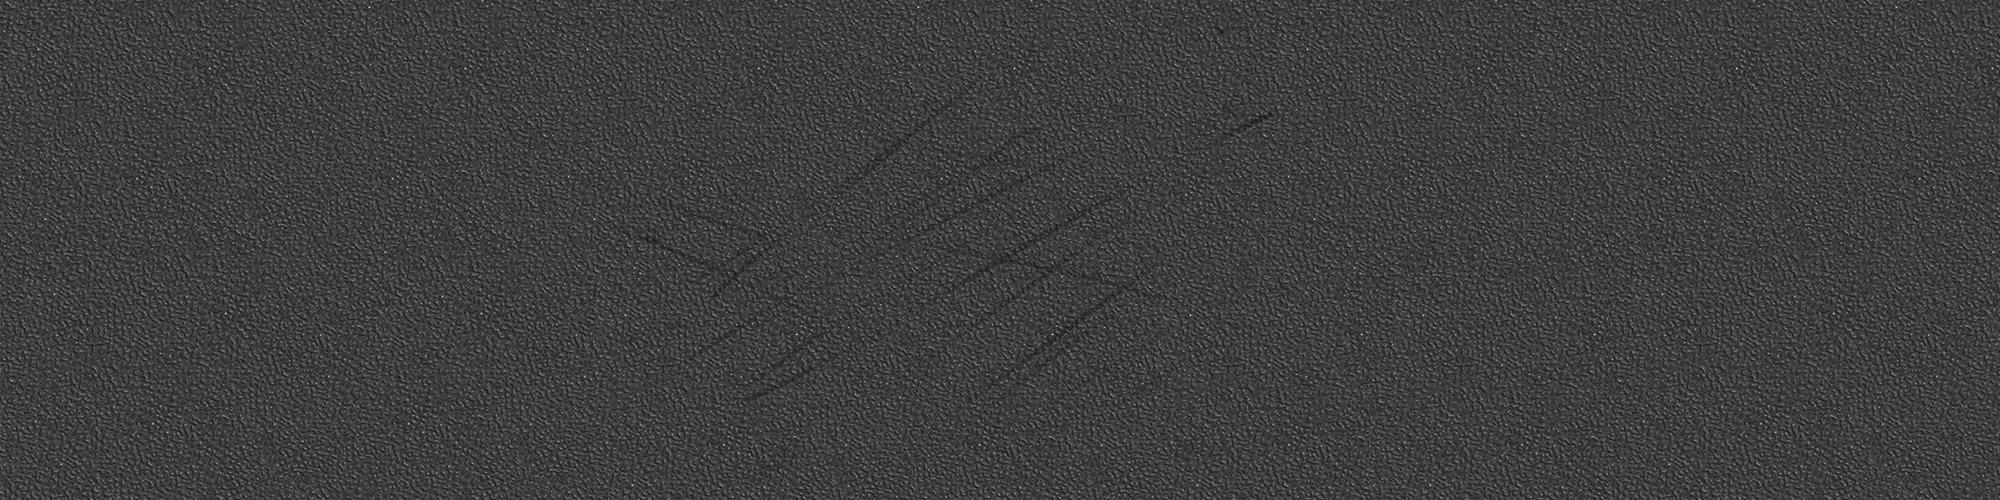Scratches: (695, 128, 1136, 397), (638, 202, 1175, 406), (716, 77, 981, 300), (915, 265, 1161, 395), (923, 237, 1171, 307), (1204, 112, 1273, 156)
